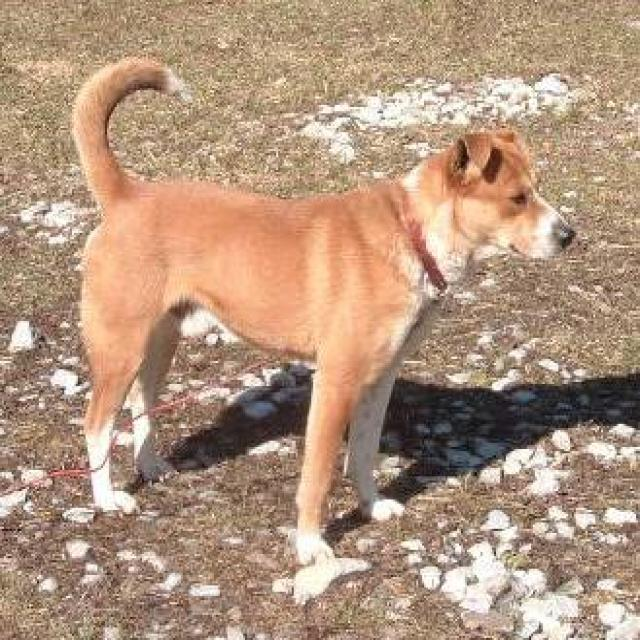dog: (68, 52, 576, 568)
